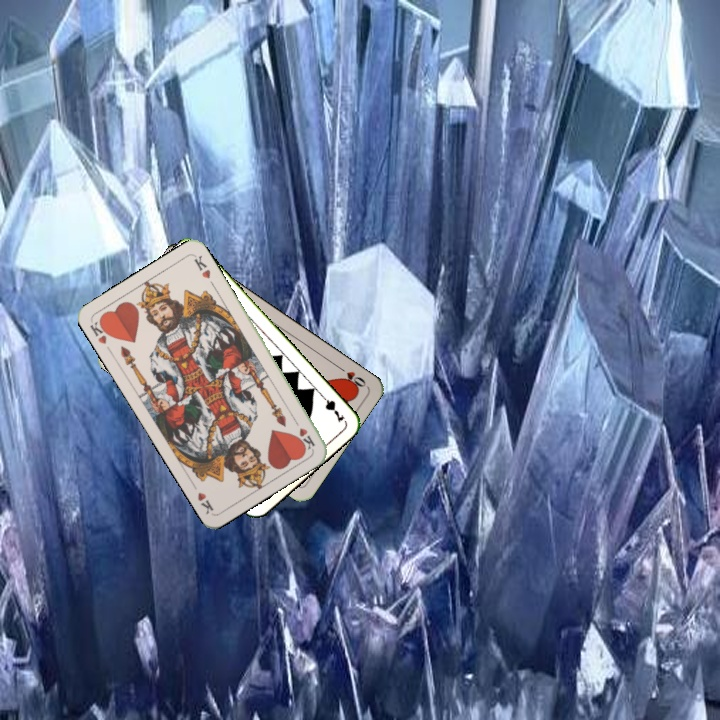G7: (316, 389, 348, 425)
HK: (289, 414, 318, 453), (86, 315, 114, 347)
HO: (333, 361, 369, 392)
